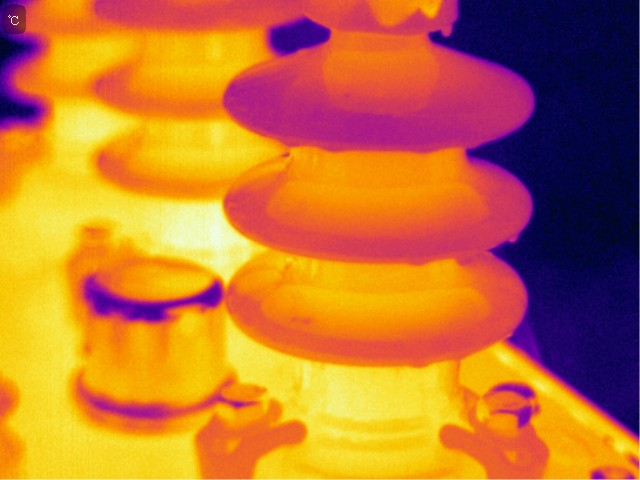Oil: (367, 1, 441, 21), (324, 140, 357, 159), (499, 324, 520, 346), (404, 360, 434, 371), (437, 21, 455, 38), (455, 254, 474, 269), (506, 229, 522, 245)
